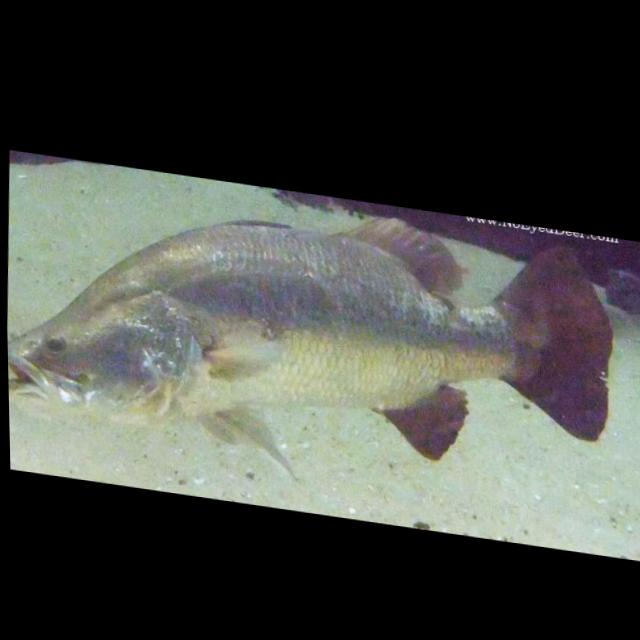Seabass: (4, 160, 622, 527)
